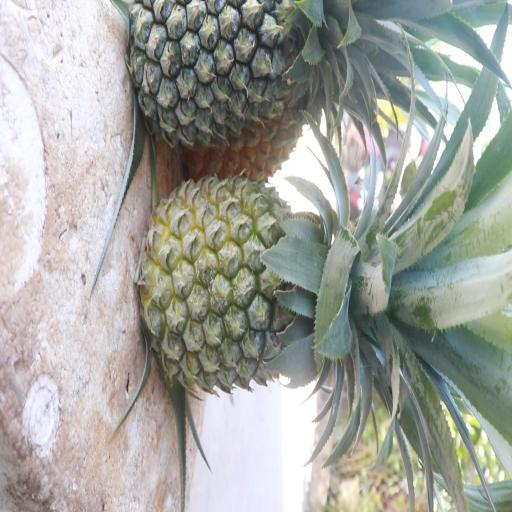------------------------------: (136, 167, 420, 398)
